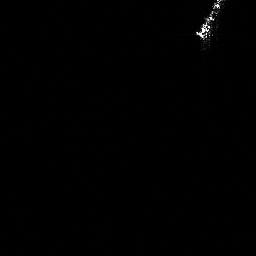ship: (192, 1, 227, 48)
